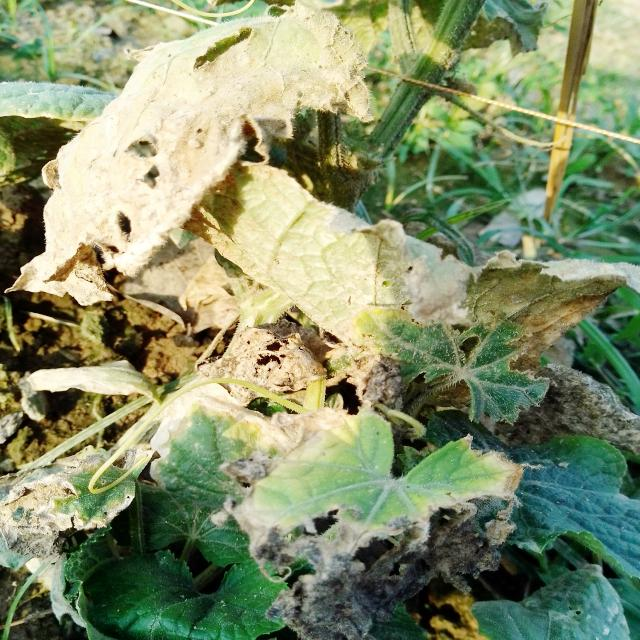Anthracnose: (111, 136, 162, 244), (192, 24, 258, 77)
